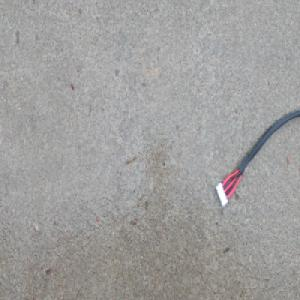Wire: (213, 107, 300, 208)
